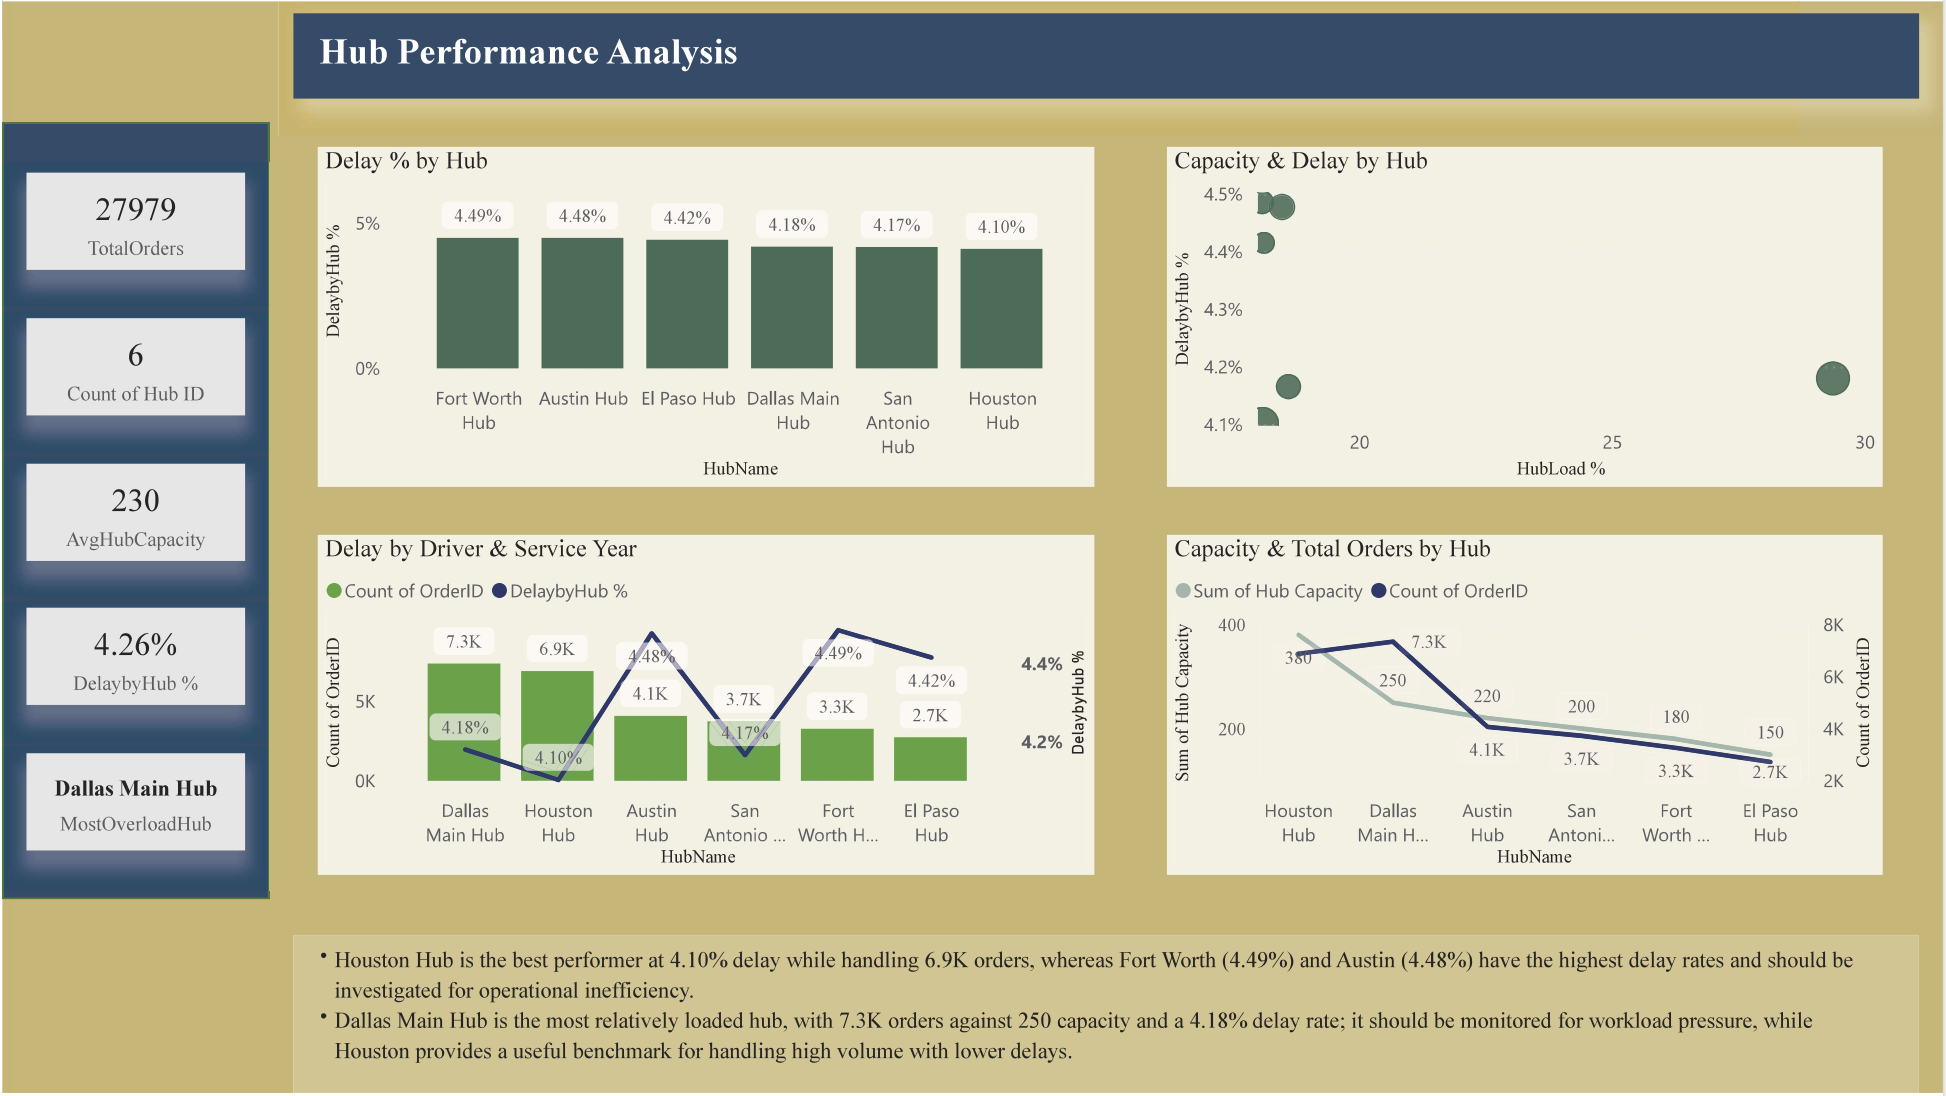

Layout of this report page (visuals, bound fields, positions):
{"tool":"powerbi","page":{"name":"Hub Performance Analysis","canvas":[1280,720],"ordinal":5},"visuals":[{"type":"shape","box":[0,80,176,512],"z":0},{"type":"card","fields":{"Values":["FACT-Orders.TotalOrders"]},"box":[16,112.5,144,64],"z":1000},{"type":"card","fields":{"Values":["CountNonNull(DIM-Hubs.Hub ID)"]},"box":[16,208.5,144,64],"z":2000},{"type":"card","fields":{"Values":["FACT-Orders.AvgHubCapacity"]},"box":[16,304.5,144,64],"z":3000},{"type":"card","fields":{"Values":["FACT-Orders.DelaybyHub %"]},"box":[16,400,144,64],"z":4000},{"type":"card","fields":{"Values":["FACT-Orders.MostOverloadHub"]},"box":[16,496,144,64],"z":5000},{"type":"textbox","box":[192,8,1072,56],"z":6000},{"type":"shape","box":[192,616,1072,104],"z":7000},{"type":"lineStackedColumnComboChart","title":"Delay % by Hub","fields":{"Category":["DIM-Hubs.HubName"],"Y":["FACT-Orders.DelaybyHub %"]},"box":[208,96,512,224],"z":8000},{"type":"lineStackedColumnComboChart","title":"Delay by Driver & Service Year","fields":{"Y":["CountNonNull(FACT-Orders.OrderID)"],"Y2":["FACT-Orders.DelaybyHub %"],"Category":["DIM-Hubs.HubName"]},"box":[208,352,512,224],"z":9000},{"type":"textbox","box":[192,616,1048,96],"z":10000},{"type":"lineChart","title":"Capacity & Total Orders by Hub","fields":{"Category":["DIM-Hubs.HubName"],"Y":["Sum(DIM-Hubs.Hub Capacity)"],"Y2":["CountNonNull(FACT-Orders.OrderID)"]},"box":[768,352,472,224],"z":11000},{"type":"scatterChart","title":"Capacity & Delay by Hub","fields":{"X":["FACT-Orders.HubLoad %"],"Category":["DIM-Hubs.HubName"],"Size":["FACT-Orders.TotalOrders"],"Y":["FACT-Orders.DelaybyHub %"]},"box":[768,96,472,224],"z":12000}]}

Visuals, with their boxes in screenshot pixels (x1, y1, x2, y2), scaled from the page's 1280x720 canvas onto the 1946x1096 screenshot:
shape: region(0, 122, 268, 901)
card - FACT-Orders.TotalOrders: region(24, 171, 243, 269)
card - CountNonNull(DIM-Hubs.Hub ID): region(24, 317, 243, 415)
card - FACT-Orders.AvgHubCapacity: region(24, 464, 243, 561)
card - FACT-Orders.DelaybyHub %: region(24, 609, 243, 706)
card - FACT-Orders.MostOverloadHub: region(24, 755, 243, 852)
textbox: region(292, 12, 1922, 97)
shape: region(292, 938, 1922, 1095)
"Delay % by Hub" lineStackedColumnComboChart: region(316, 146, 1095, 487)
"Delay by Driver & Service Year" lineStackedColumnComboChart: region(316, 536, 1095, 877)
textbox: region(292, 938, 1885, 1084)
"Capacity & Total Orders by Hub" lineChart: region(1168, 536, 1885, 877)
"Capacity & Delay by Hub" scatterChart: region(1168, 146, 1885, 487)
